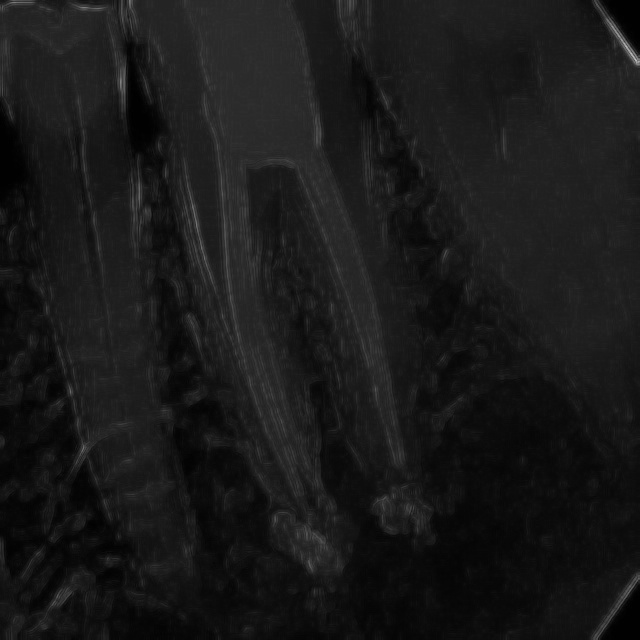Class 0- No endodontic treatment: (124, 6, 461, 550)
